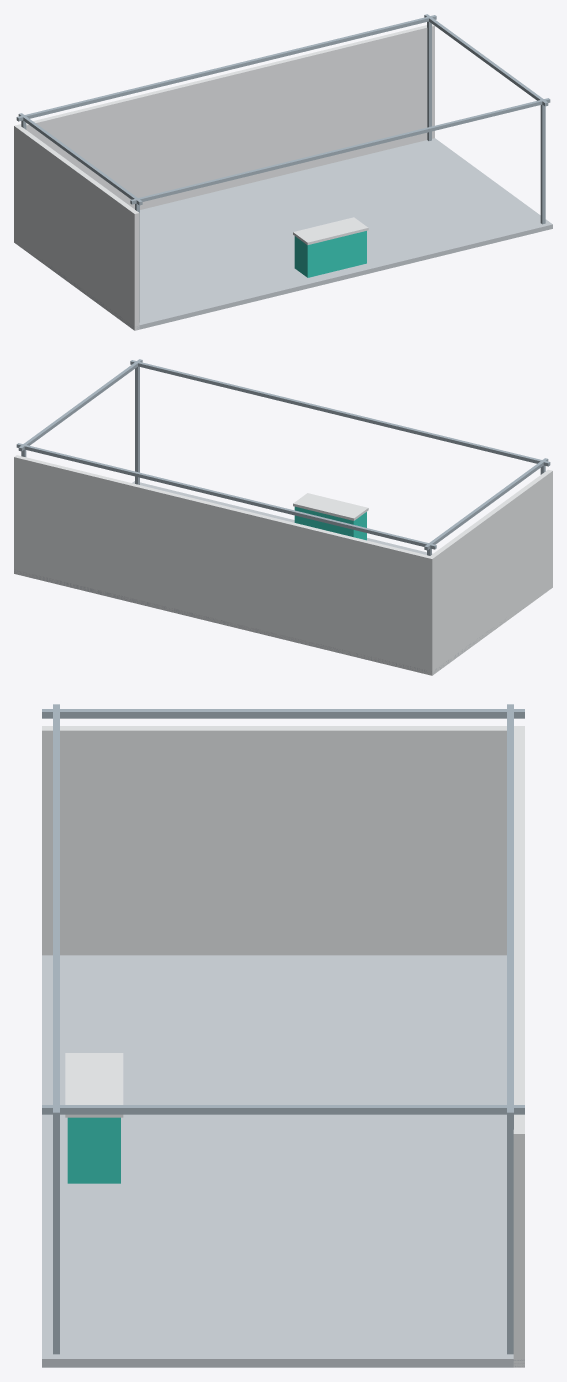
The picture shows the model from 3 angles, top to bottom: view 1: azimuth 30°, elevation 25°; view 2: azimuth 150°, elevation 25°; view 3: azimuth 270°, elevation 25°; orthographic projection. The views are drawn at different scales.
Parts seen in each view (by area): view 1: Exhibition Booth Concept; view 2: Exhibition Booth Concept; view 3: Exhibition Booth Concept.
Part boxes in pixels (bbox=[...]): Exhibition Booth Concept: bbox=[14, 14, 552, 330]; Exhibition Booth Concept: bbox=[14, 359, 552, 675]; Exhibition Booth Concept: bbox=[42, 704, 524, 1367].
Size of the model in its own units: 12 by 3.49 by 6.
